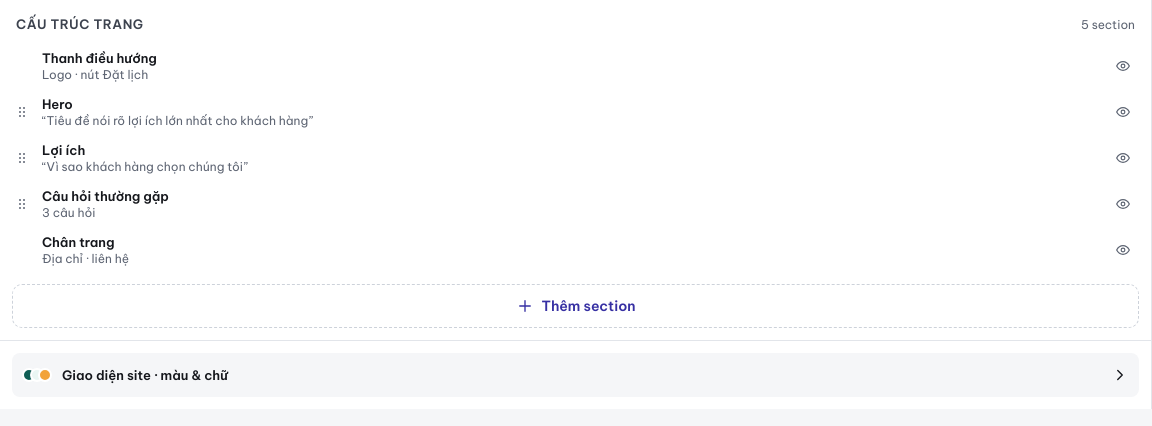
Test: StructurePanel › keeps the footer in place: the last movable section cannot go down
This screenshot has width=1152, height=426.
Step 1. Click the button "Câu hỏi thường gặp 3 câu hỏi" → (105, 196), box [38,182,1103,226]
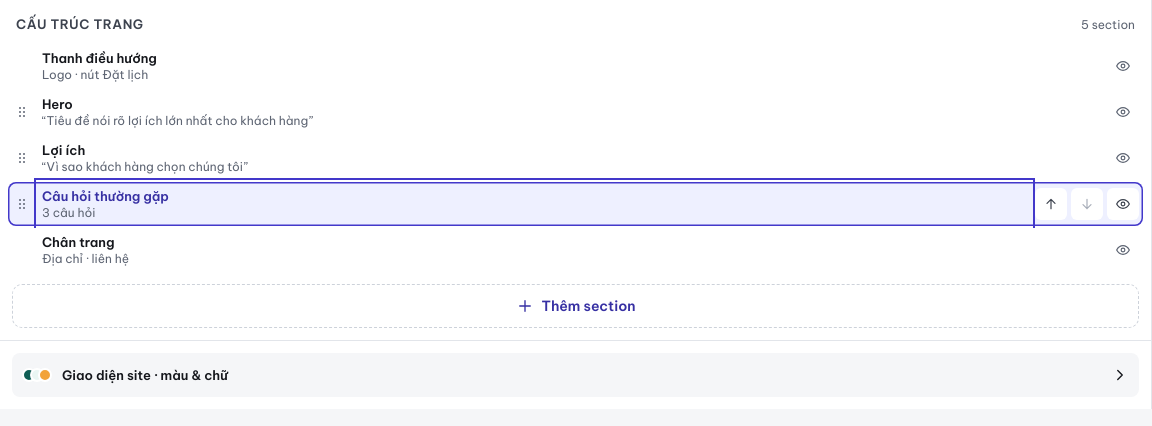
Result: the button named "Chuyển Câu hỏi thường gặp xuống dưới" is disabled at [1071,188,1103,220]
